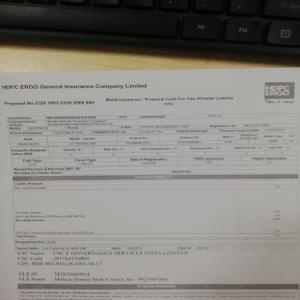image: (264, 80, 295, 101)
table: (4, 112, 300, 173), (11, 181, 300, 242)
text: (13, 246, 191, 285), (1, 80, 150, 91), (104, 94, 232, 106), (4, 96, 97, 106)
